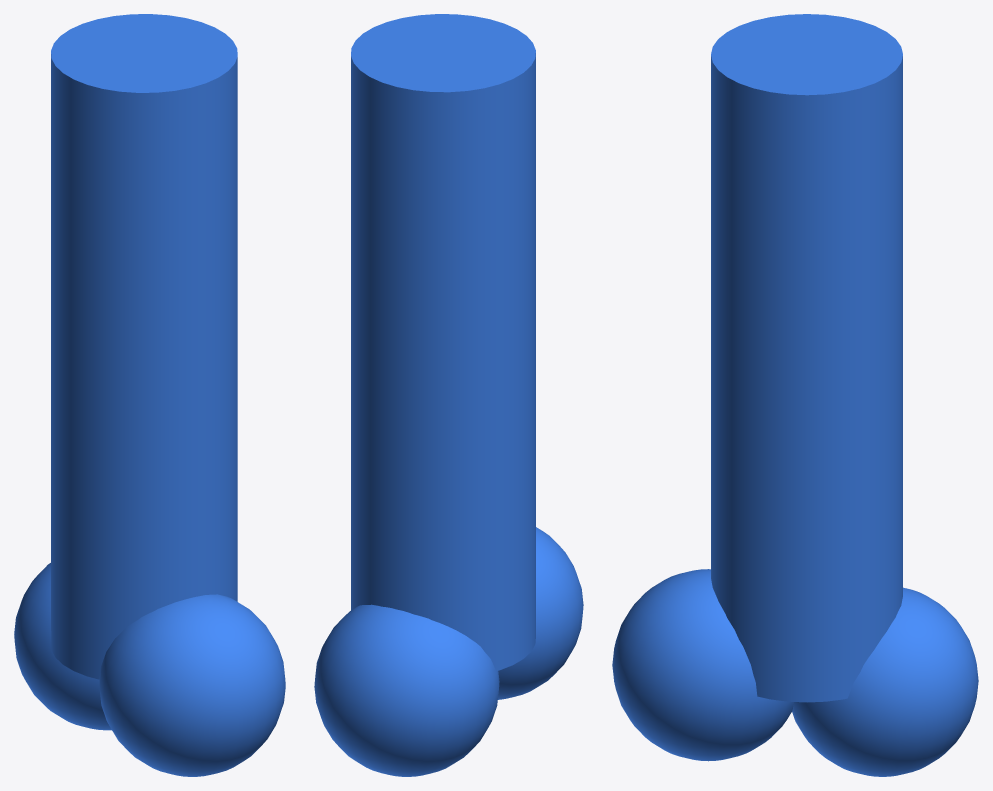
The picture shows the model from 3 angles, left to right: view 1: azimuth 30°, elevation 25°; view 2: azimuth 150°, elevation 25°; view 3: azimuth 270°, elevation 25°; orthographic projection. The views are drawn at different scales.
Visible parts, largest first — view 1: object3D (×3); view 2: object3D (×3); view 3: object3D (×3).
Boxes of the visible parts, box(x1,y1,x2,y2) form: object3D (×3): box(14, 14, 285, 776); object3D (×3): box(314, 14, 583, 776); object3D (×3): box(612, 14, 978, 776).
Size of the model in its own units: 2 by 8.19 by 3.81.
